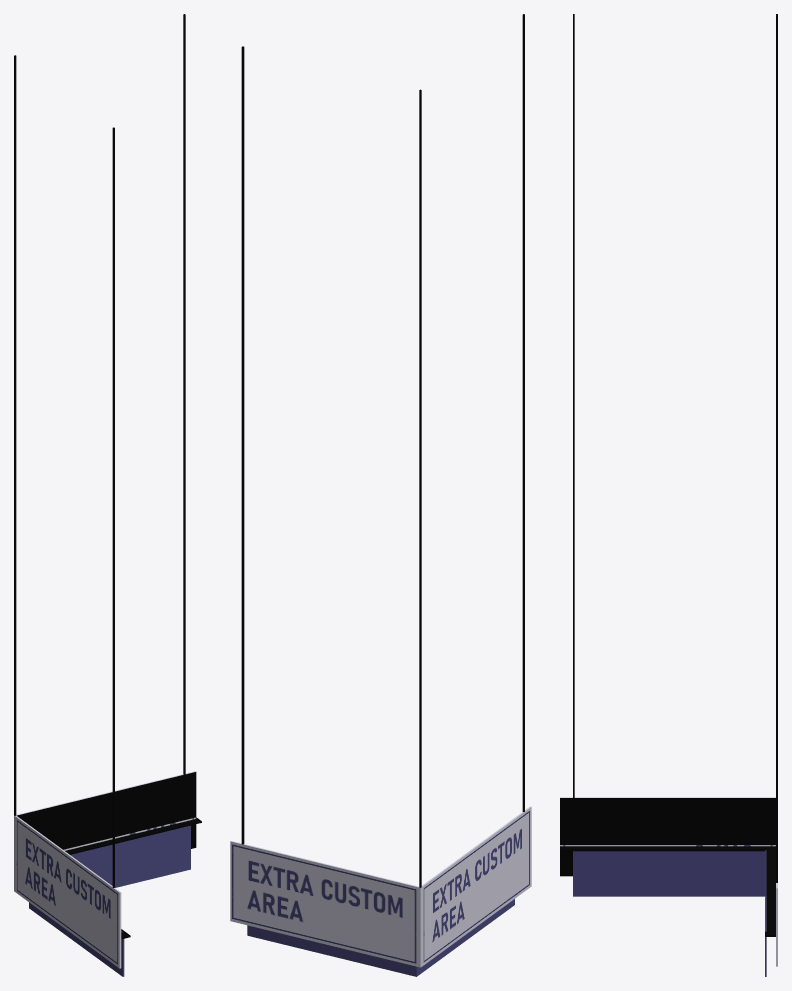
The model's file is stand_lr_top_03.fbx.
3 renders of one model, left to right at view 1: azimuth 30°, elevation 25°; view 2: azimuth 150°, elevation 25°; view 3: azimuth 270°, elevation 25°, orthographic. The views are drawn at different scales.
Parts seen in each view (by area): view 1: stand_lr_top_03; view 2: stand_lr_top_03; view 3: stand_lr_top_03.
Boxes of the visible parts, x1,y1,x2,y2 form: stand_lr_top_03: (14, 14, 201, 976); stand_lr_top_03: (230, 14, 531, 976); stand_lr_top_03: (560, 14, 777, 976).
Bounding box in the file's own units: 250 × 1120 × 252.
